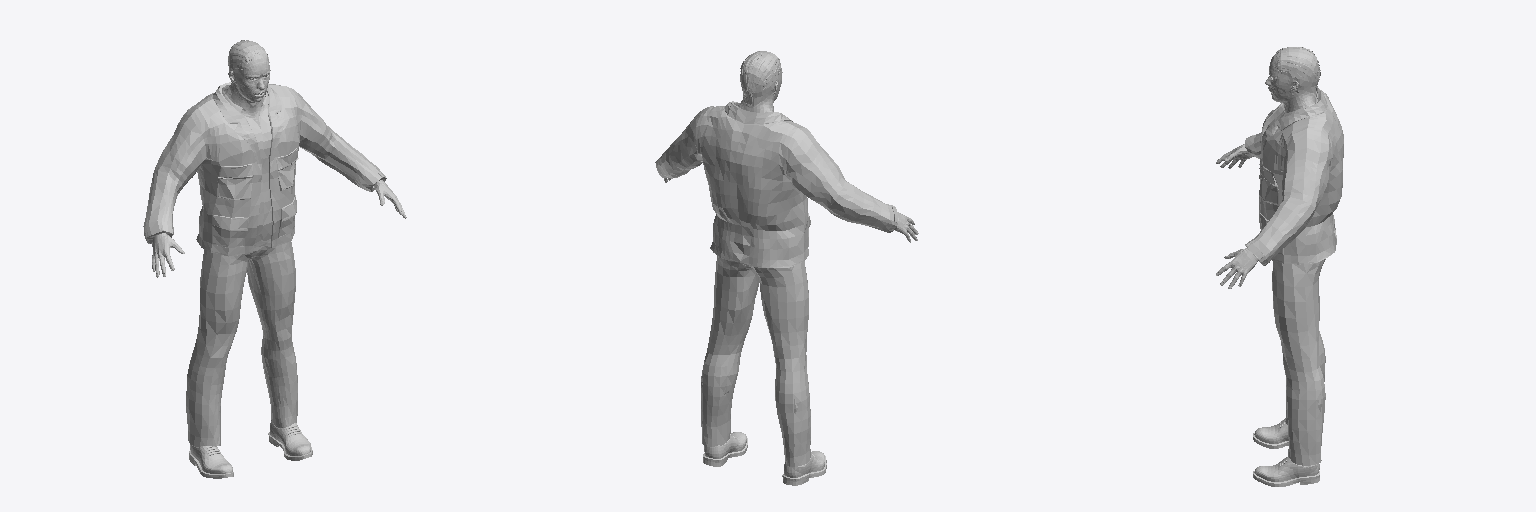
The picture shows the model from 3 angles: view 1: azimuth 30°, elevation 25°; view 2: azimuth 150°, elevation 25°; view 3: azimuth 270°, elevation 25°; orthographic projection.
Visible parts, largest first — view 1: Ml1:Male_casualsuit05, Ml1:Body, Ml1:Shoes03, Ml1:Short04; view 2: Ml1:Male_casualsuit05, Ml1:Short04, Ml1:Shoes03, Ml1:Body; view 3: Ml1:Male_casualsuit05, Ml1:Body, Ml1:Shoes03, Ml1:Short04.
Part boxes in pixels (x1,y1,x2,y2): Ml1:Male_casualsuit05: (143,82,386,446); Ml1:Body: (152,61,406,277); Ml1:Shoes03: (189,420,312,478); Ml1:Short04: (228,40,269,85); Ml1:Male_casualsuit05: (655,101,898,466); Ml1:Short04: (740,51,781,107); Ml1:Shoes03: (703,432,826,485); Ml1:Body: (664,72,918,242); Ml1:Male_casualsuit05: (1245,87,1343,465); Ml1:Body: (1216,59,1316,288); Ml1:Shoes03: (1253,418,1319,486); Ml1:Short04: (1272,47,1320,95).
Bounding box in the file's own units: 1.31 × 2.08 × 0.5843.